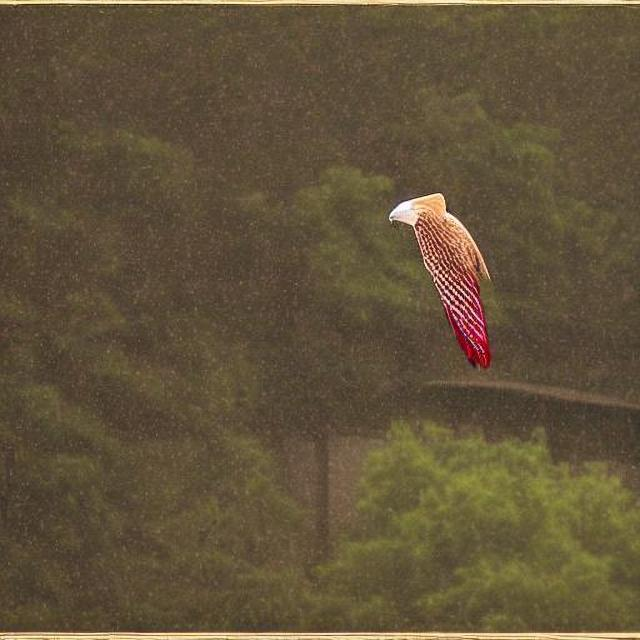floating object: (384, 189, 492, 368)
